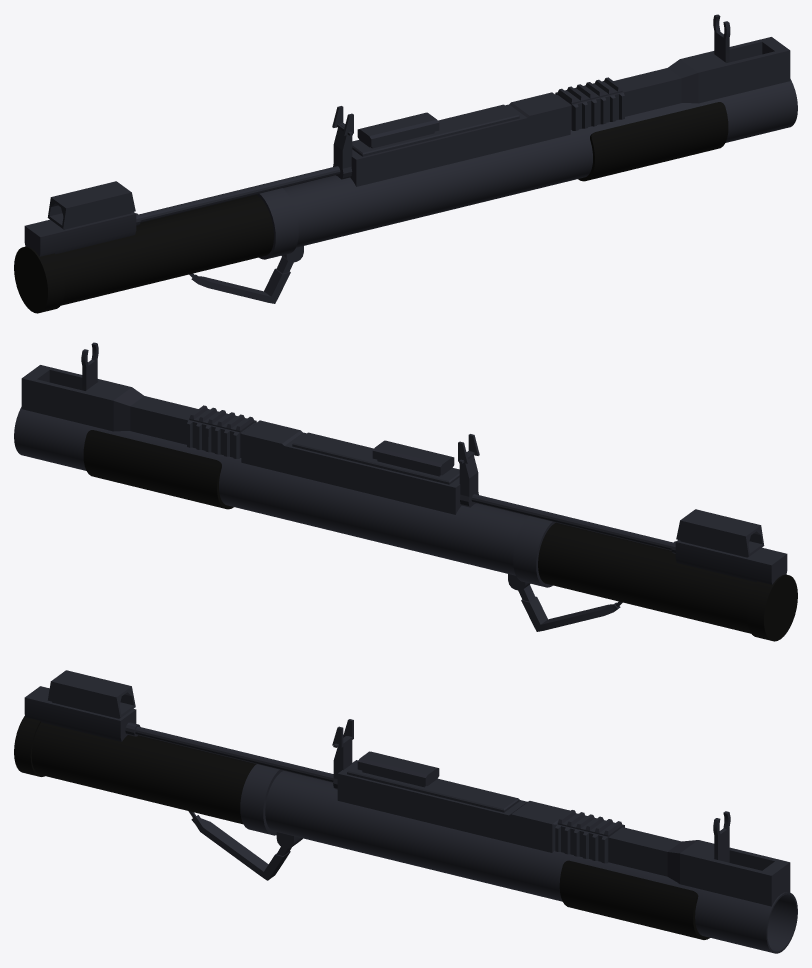
The model's file is M_72_LAW_Mesh.fbx.
The picture shows the model from 3 angles, top to bottom: view 1: azimuth 30°, elevation 25°; view 2: azimuth 150°, elevation 25°; view 3: azimuth 330°, elevation 25°; orthographic projection.
Visible parts, largest first — view 1: M_72_LAW; view 2: M_72_LAW; view 3: M_72_LAW.
Part boxes in pixels (x1,y1,x2,y2): M_72_LAW: [14, 14, 797, 313]; M_72_LAW: [14, 342, 797, 641]; M_72_LAW: [14, 670, 797, 953].
Size of the model in its own units: 1.13 by 0.2474 by 0.0927.
